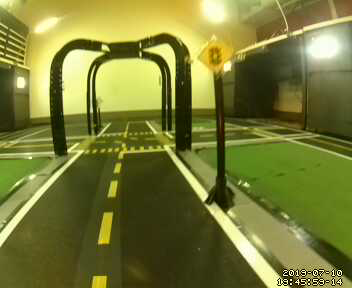Traffic light sign: (195, 37, 237, 73)
